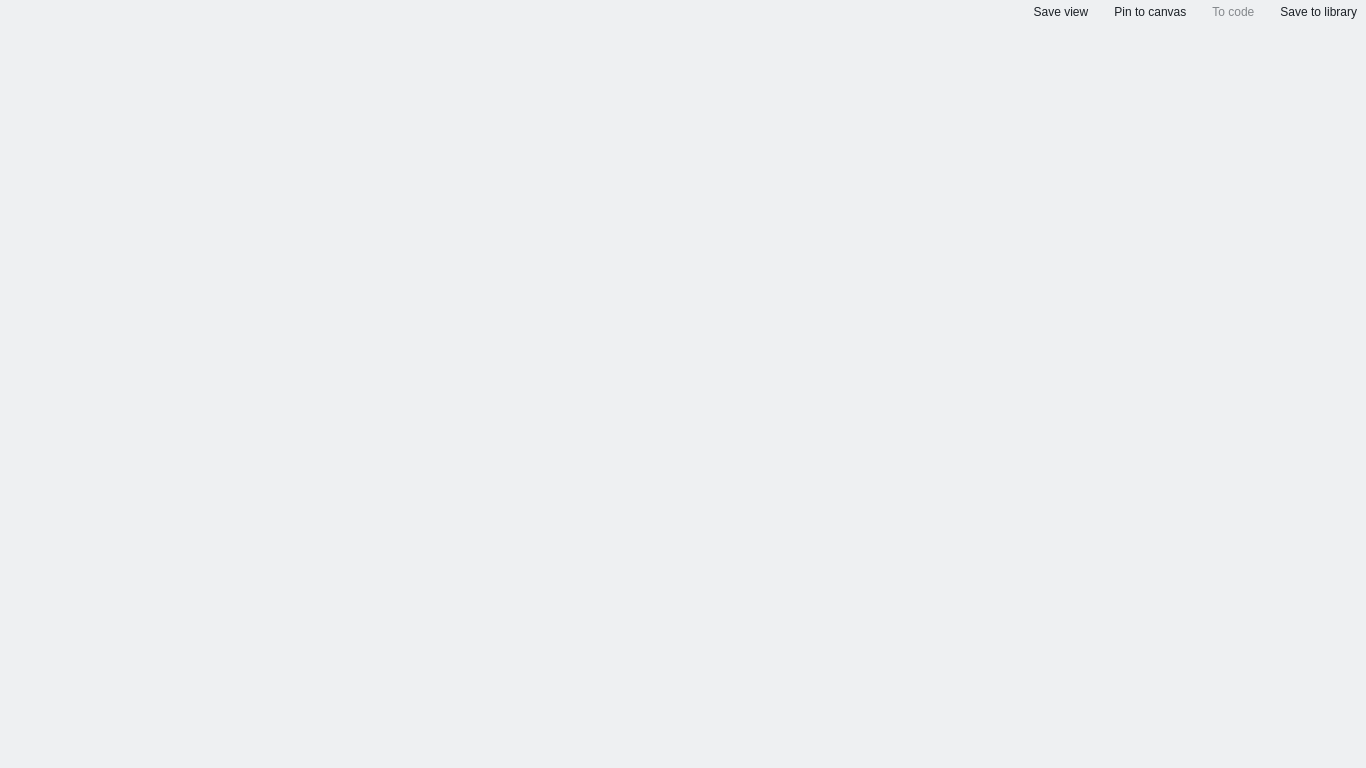
Test case: StepActions save to library › shows the server's refusal in the dialog
Click the button "Save to library" at (1319, 12), box [1271, 0, 1365, 24]
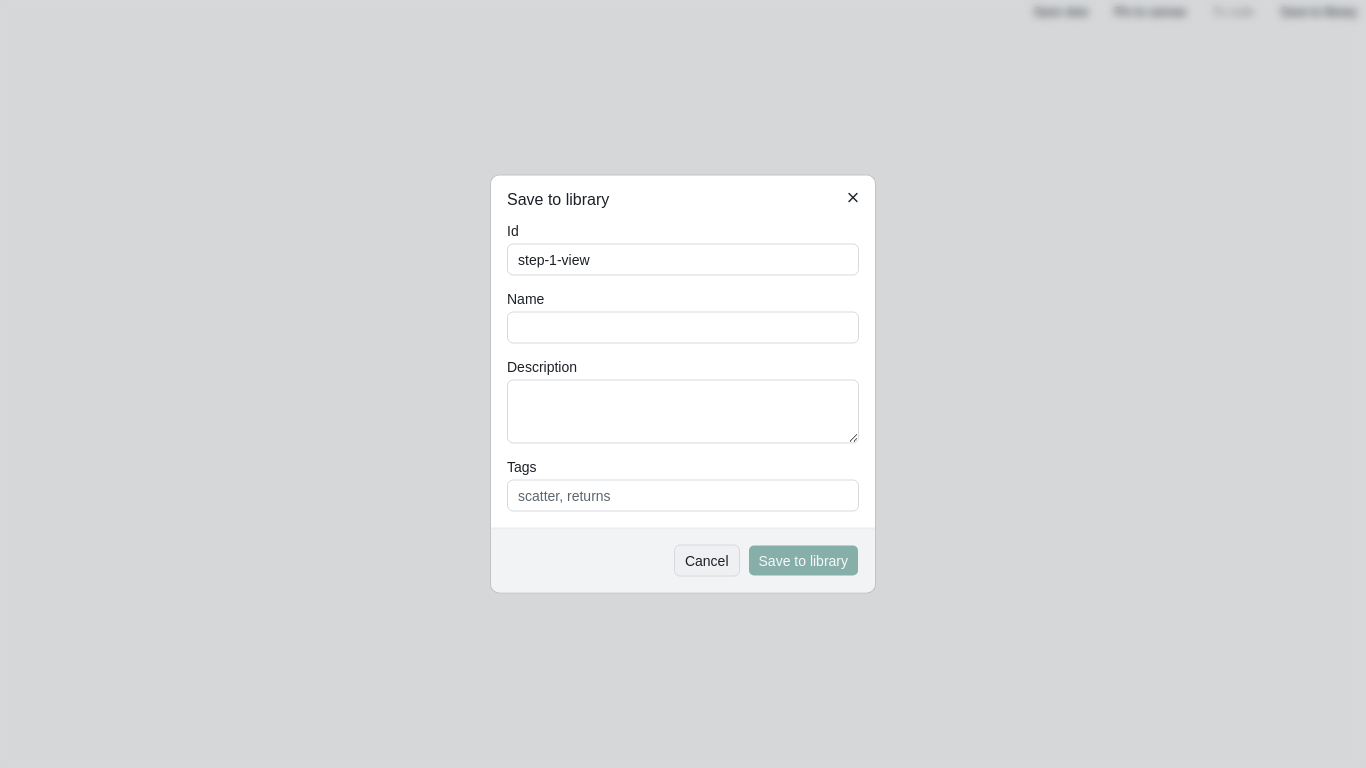
Type "My view" into the field labelled "Name" at (683, 328), box [507, 312, 859, 344]
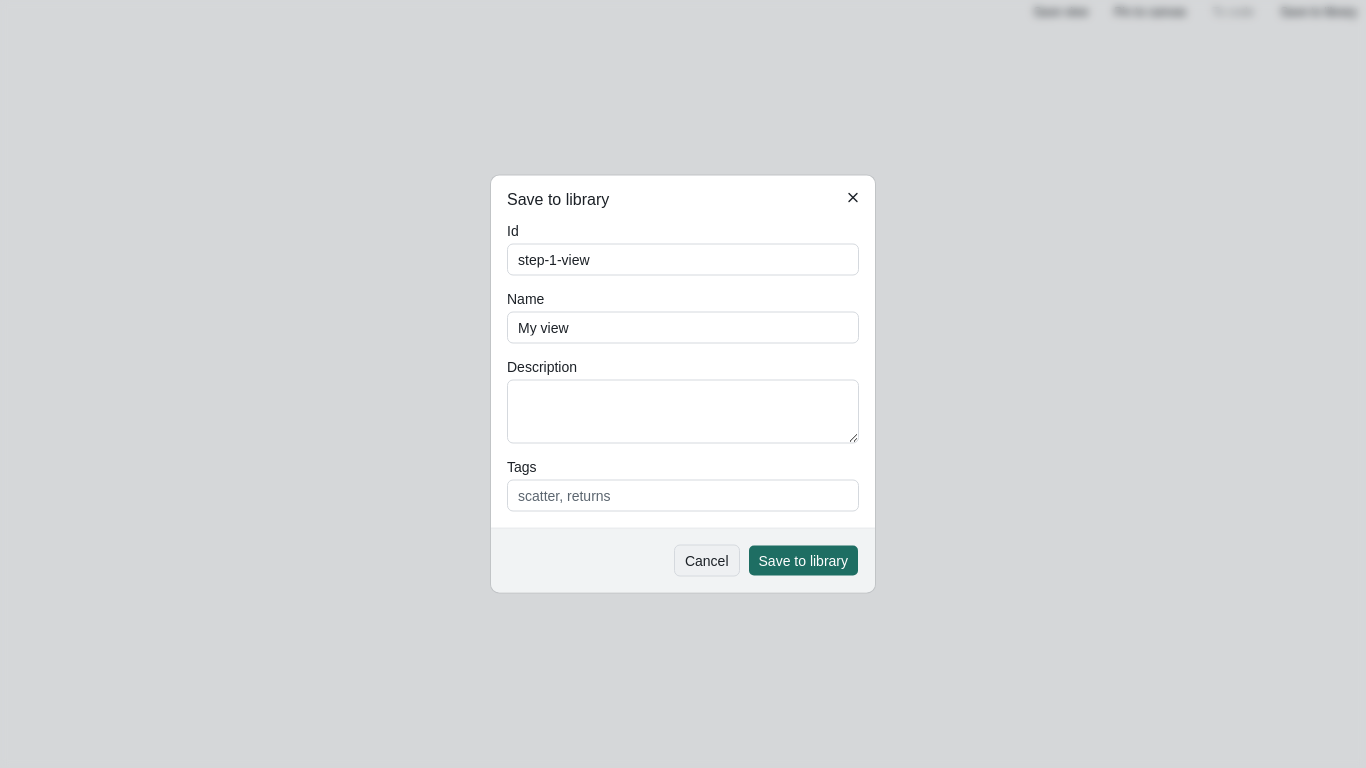
Click the button "Save to library" at (803, 560), box [748, 544, 859, 576]
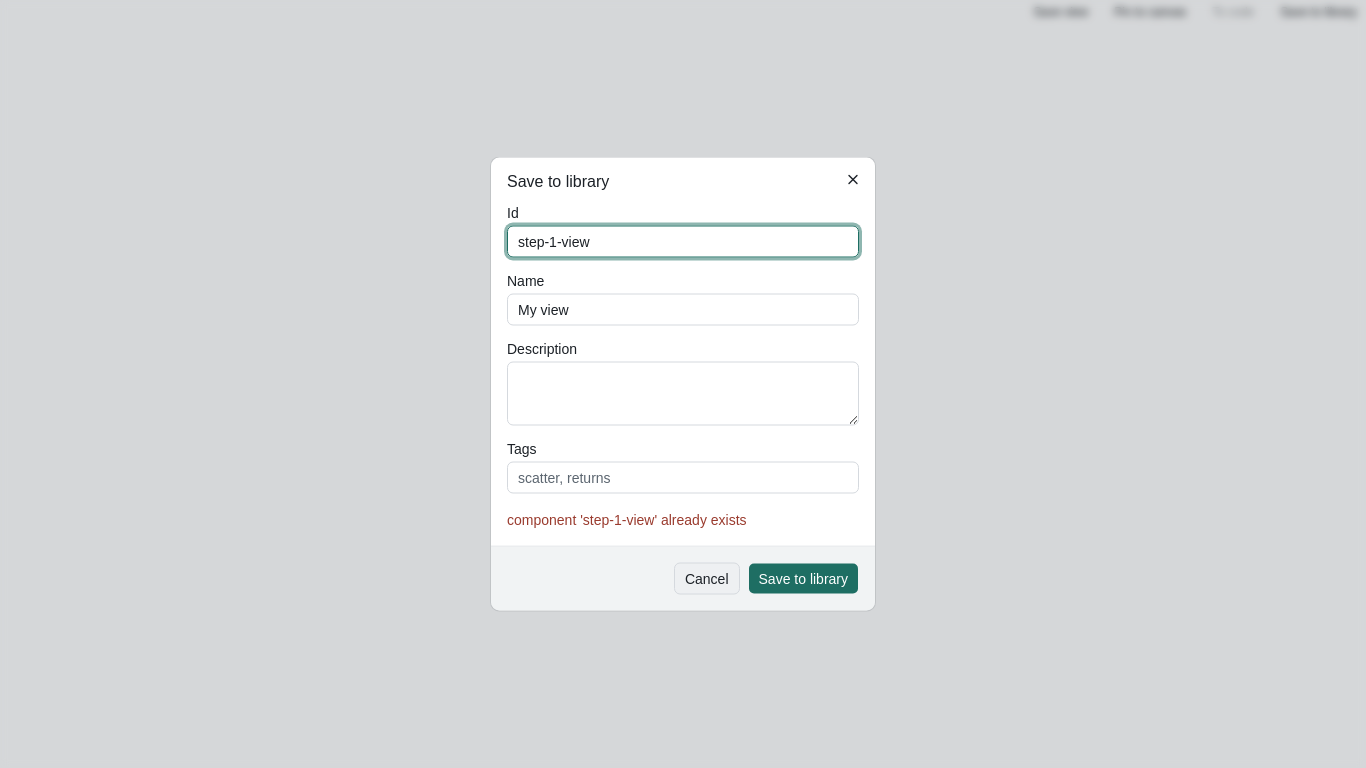
Check: the text "component 'step-1-view' already exists" is shown, box [507, 512, 747, 528]
